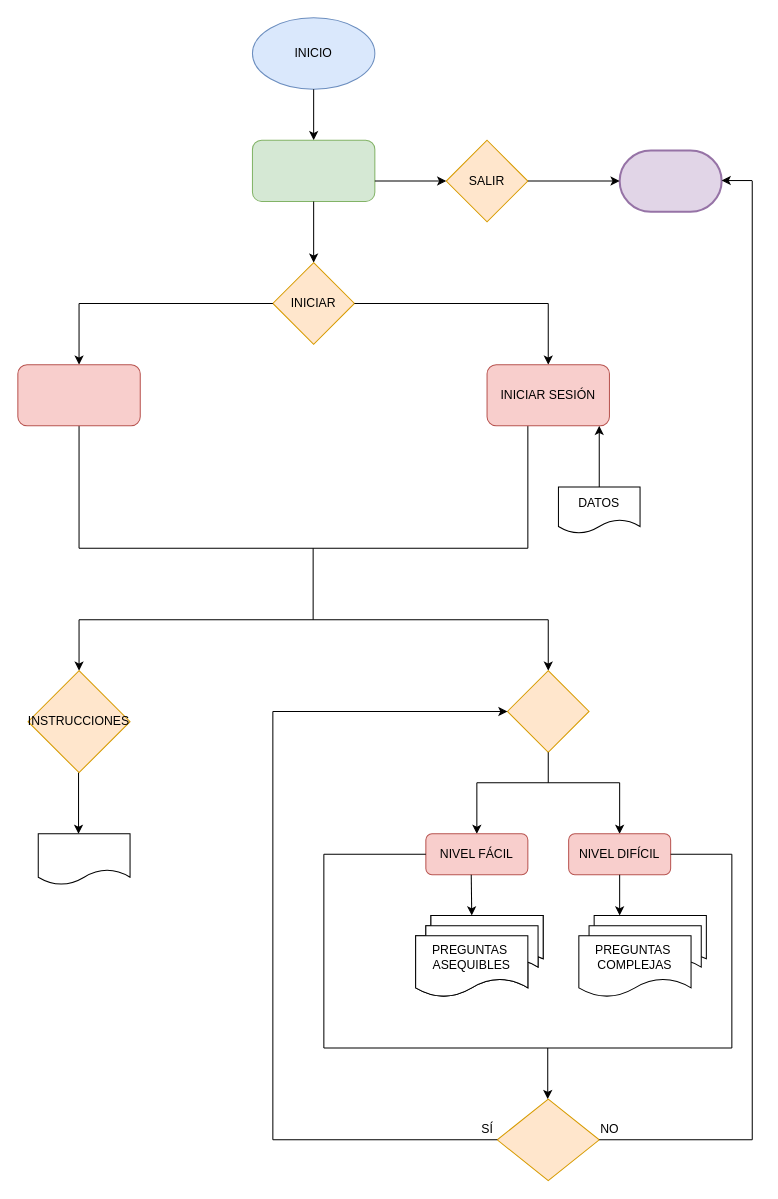
The diagram is 778 pixels wide and 1199 high, and some of its shapes have lost their labels. The shapes that lost their labels are listed below. From the top down, each one's centre as x and y in pixels, then its label:
At point (313, 170): "MENÚ".
At point (670, 180): "FINAL".
At point (78, 395): "REGISTRARSE".
At point (547, 711): "JUGAR".
At point (83, 859): "FICHERO".
At point (547, 1139): "VOLVER A JUGAR".
